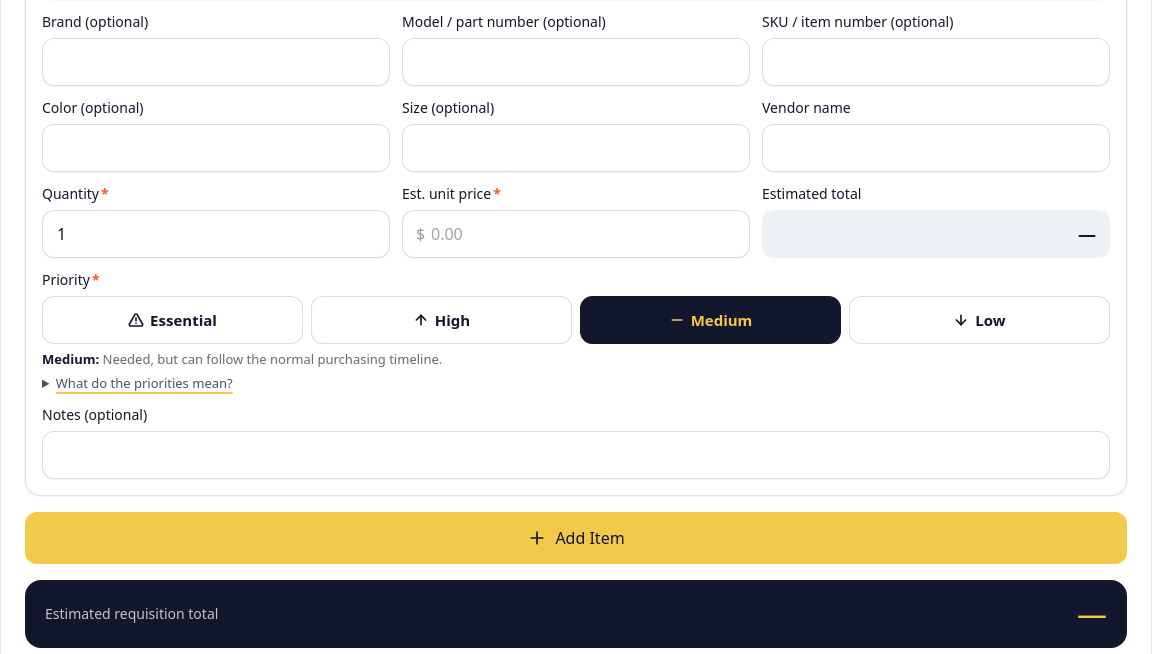
requisition form priority › requires a justification only for Essential
The width and height of the screenshot is (1152, 654).
(page scrolled)
Expected: the field labelled "Why is this item essential" is not shown
Click the radio button labelled "High": (442, 320) [311, 296, 572, 344]
(page scrolled)
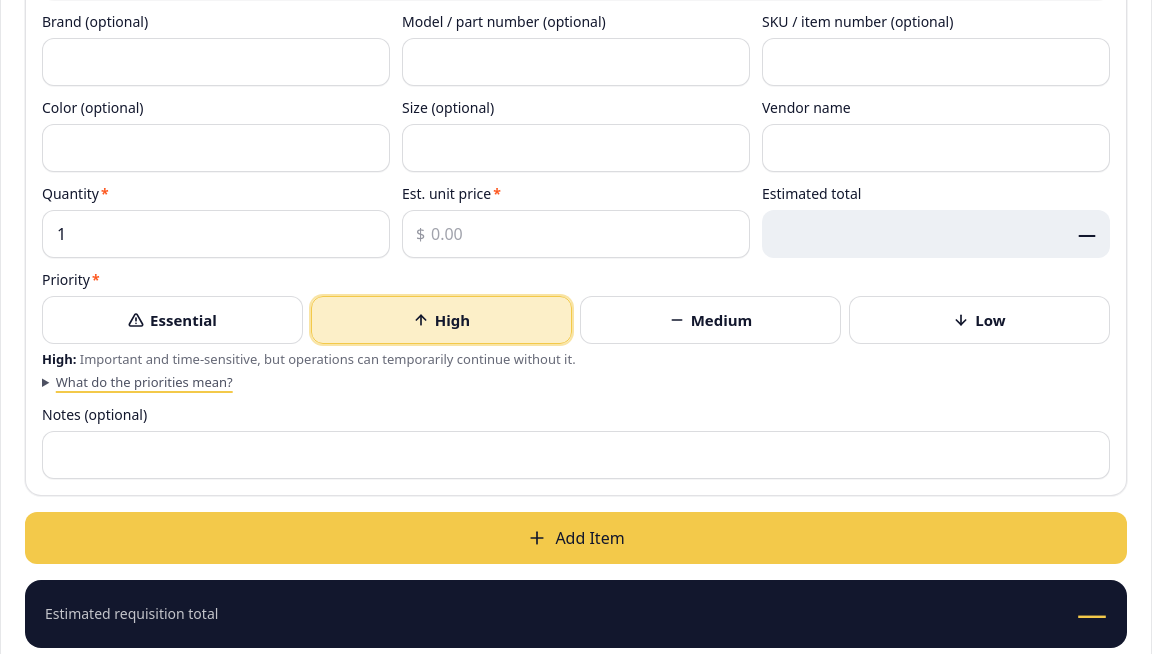
Expected: the field labelled "Why is this item essential" is not shown
Click the radio button labelled "Essential": (172, 320) [42, 296, 303, 344]
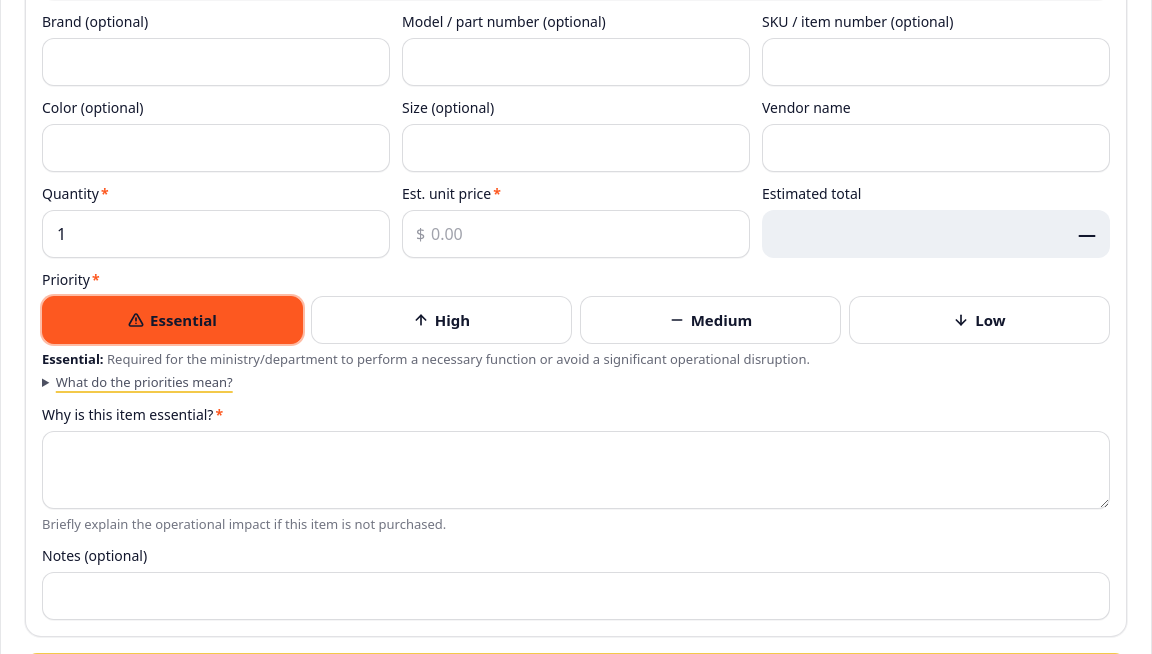
Expected: the text "Briefly explain the operational impact if this item is not purchased." is shown, [42, 515, 446, 533]
